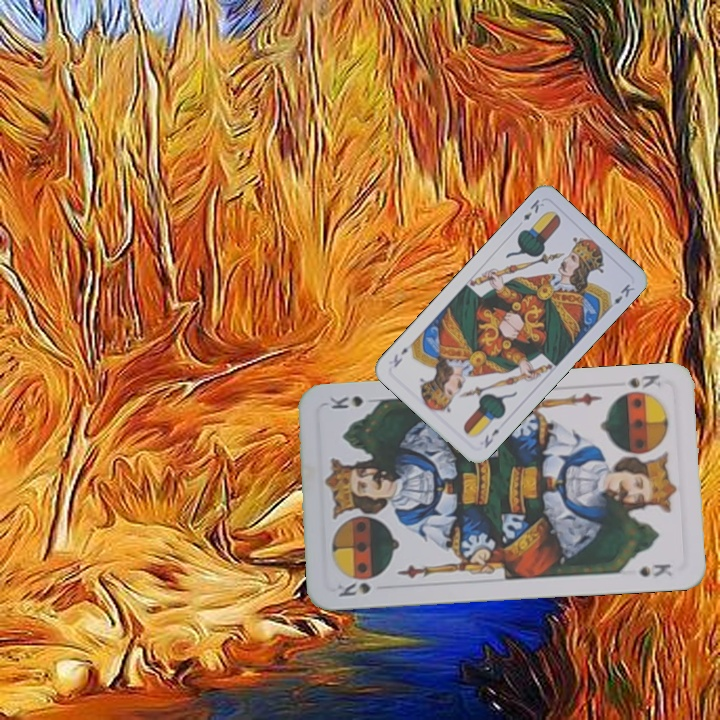EK: (519, 195, 547, 223), (480, 425, 502, 451)
SK: (333, 573, 381, 599), (623, 370, 664, 392)
